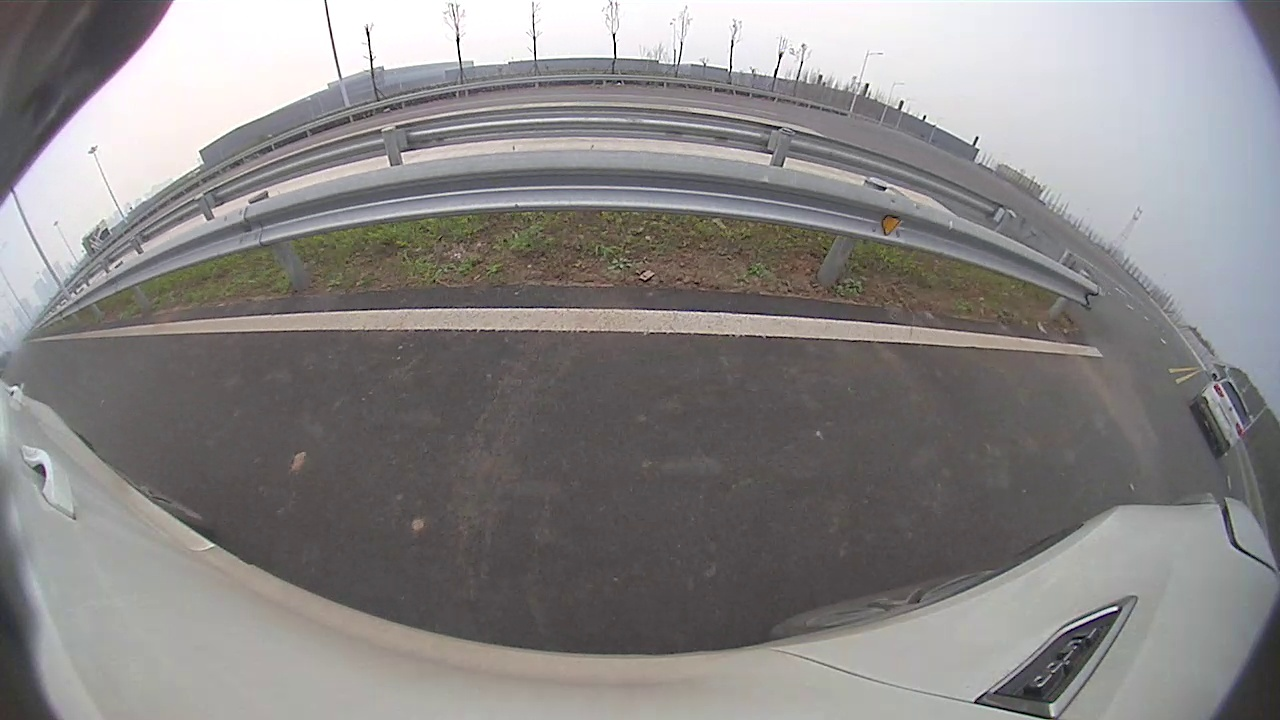car: (340, 121, 558, 259)
front: (541, 178, 555, 215)
rear: (468, 187, 501, 247)
